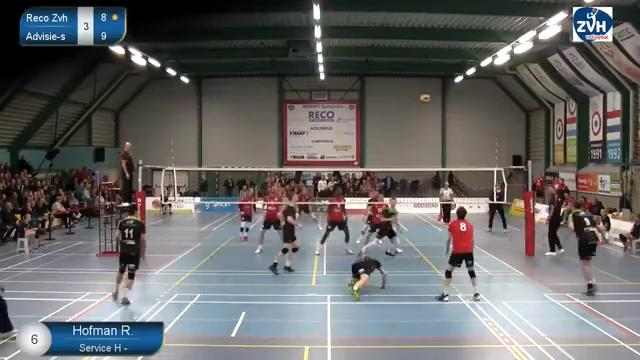Dig: (338, 252, 394, 305)
Player: (436, 207, 480, 301), (112, 205, 144, 305), (569, 200, 598, 295), (269, 192, 299, 274), (315, 188, 352, 254), (360, 193, 386, 254), (255, 193, 281, 253), (376, 198, 401, 255), (356, 190, 377, 243), (297, 186, 321, 229), (239, 188, 255, 240)
ball: (419, 94, 432, 104)
